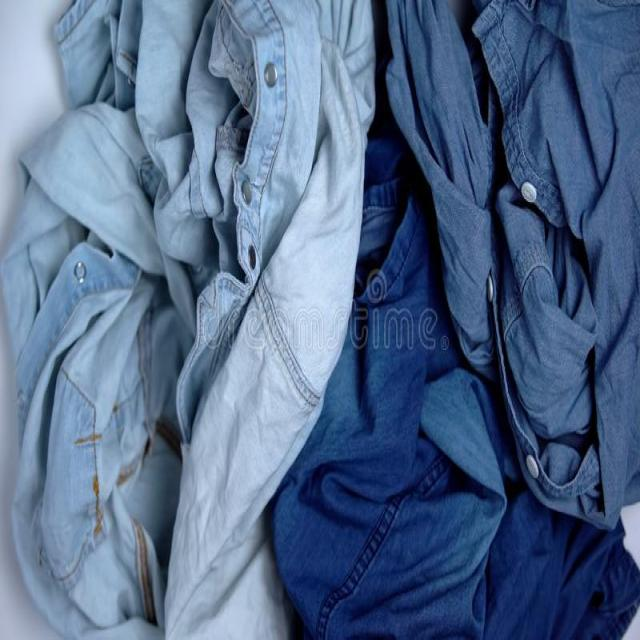clothes: (41, 31, 588, 576)
